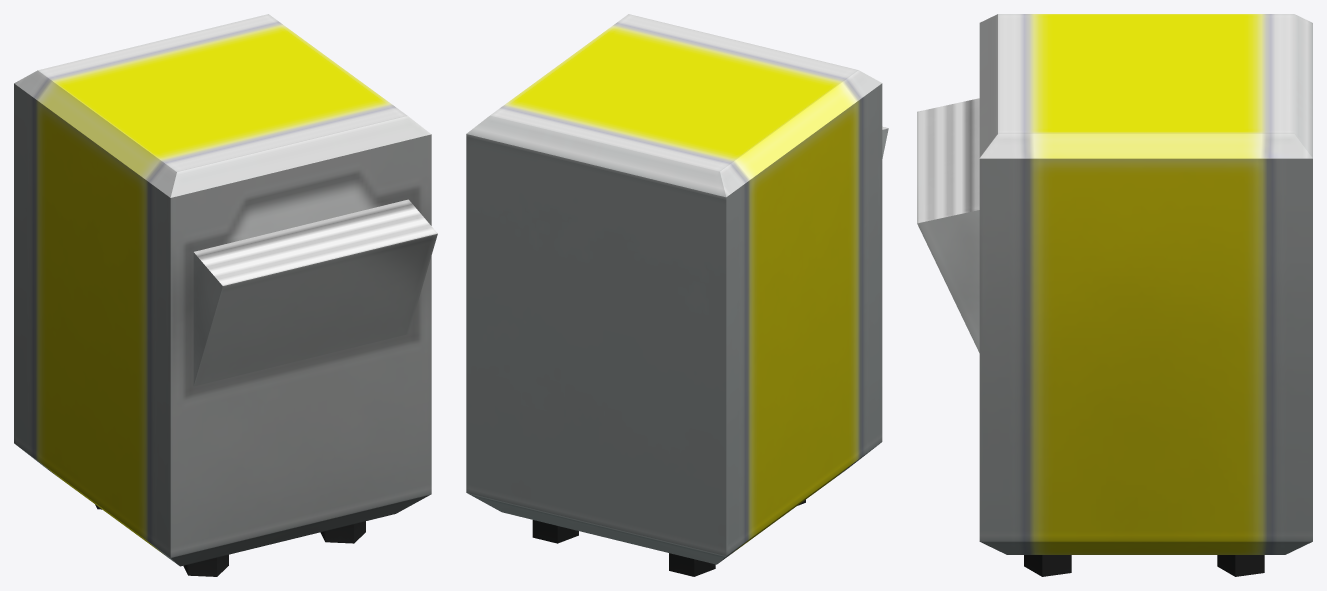
The model's file is NapkinDispenser.fbx.
The picture shows the model from 3 angles, left to right: view 1: azimuth 30°, elevation 25°; view 2: azimuth 150°, elevation 25°; view 3: azimuth 270°, elevation 25°; orthographic projection. The views are drawn at different scales.
Visible parts, largest first — view 1: NapkinDispenser; view 2: NapkinDispenser; view 3: NapkinDispenser.
Part boxes in pixels (left/top/right/bottom): NapkinDispenser: left=14, top=14, right=437, bottom=576; NapkinDispenser: left=466, top=14, right=888, bottom=576; NapkinDispenser: left=917, top=14, right=1312, bottom=576.
Size of the model in its own units: 5.28 by 8.25 by 6.52.
